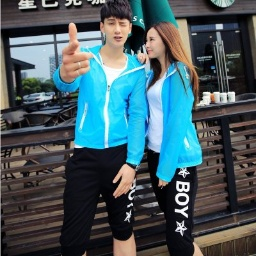face: (141, 19, 197, 82), (94, 1, 139, 56)
